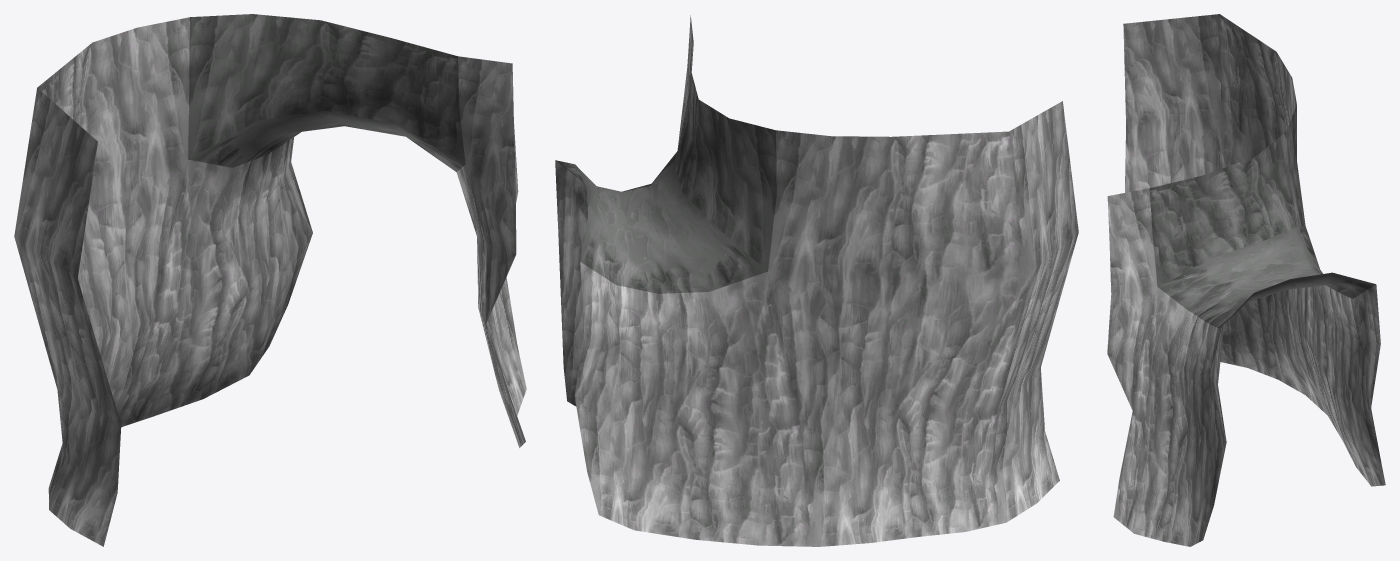
Rendered from SWORDLIGHT20_PS-AREA03_56.fbx.
The picture shows the model from 3 angles, left to right: view 1: azimuth 30°, elevation 25°; view 2: azimuth 150°, elevation 25°; view 3: azimuth 270°, elevation 25°; orthographic projection. The views are drawn at different scales.
Visible parts, largest first — view 1: SWORDLIGHT20_PS-AREA03_56; view 2: SWORDLIGHT20_PS-AREA03_56; view 3: SWORDLIGHT20_PS-AREA03_56.
Boxes of the visible parts, box(x1,y1,x2,y2) form: SWORDLIGHT20_PS-AREA03_56: box(14, 14, 526, 546); SWORDLIGHT20_PS-AREA03_56: box(555, 15, 1078, 546); SWORDLIGHT20_PS-AREA03_56: box(1107, 14, 1385, 546).
Size of the model in its own units: 172631 by 141747 by 101173.
3 materials, 3 textured.
